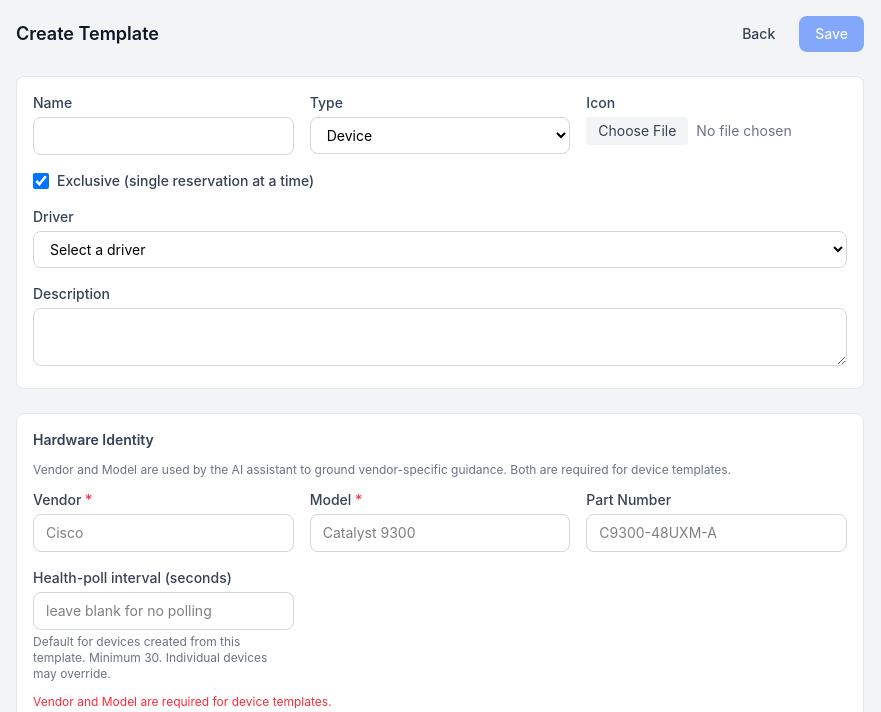
Test: TemplateEditorPage (create flow) › switching from dynamic back to device clears the driver and hypervisor selection
The width and height of the screenshot is (881, 712).
Select "Dynamic (Hypervisor)" in the dropdown labelled "Type" at [440, 136], box [310,117,570,154]
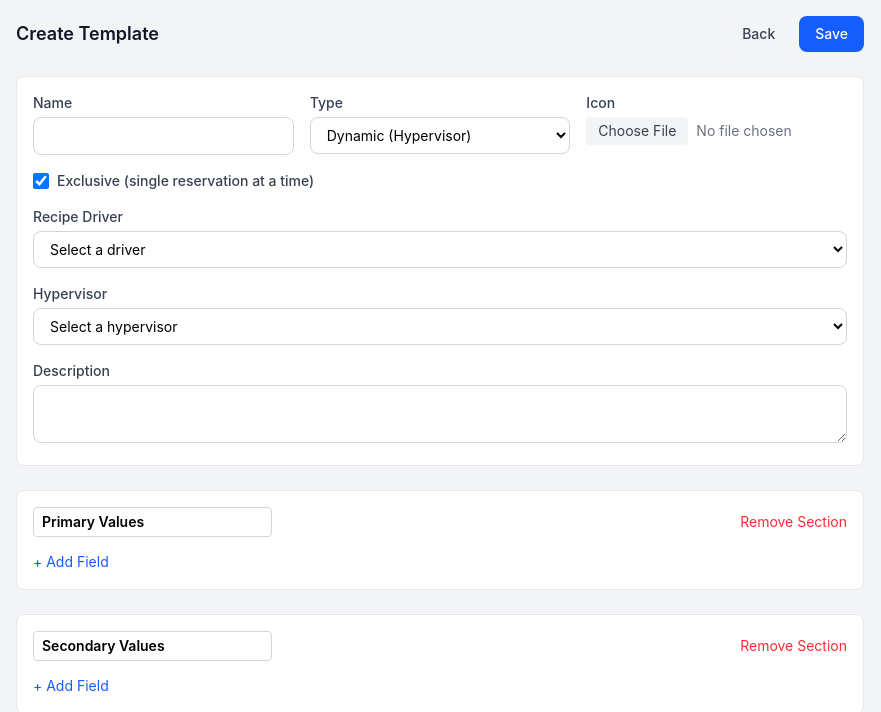
Select "Proxmox Recipe (Hypervisor)" in the dropdown labelled "Recipe Driver" at [440, 250], box [33,231,847,268]
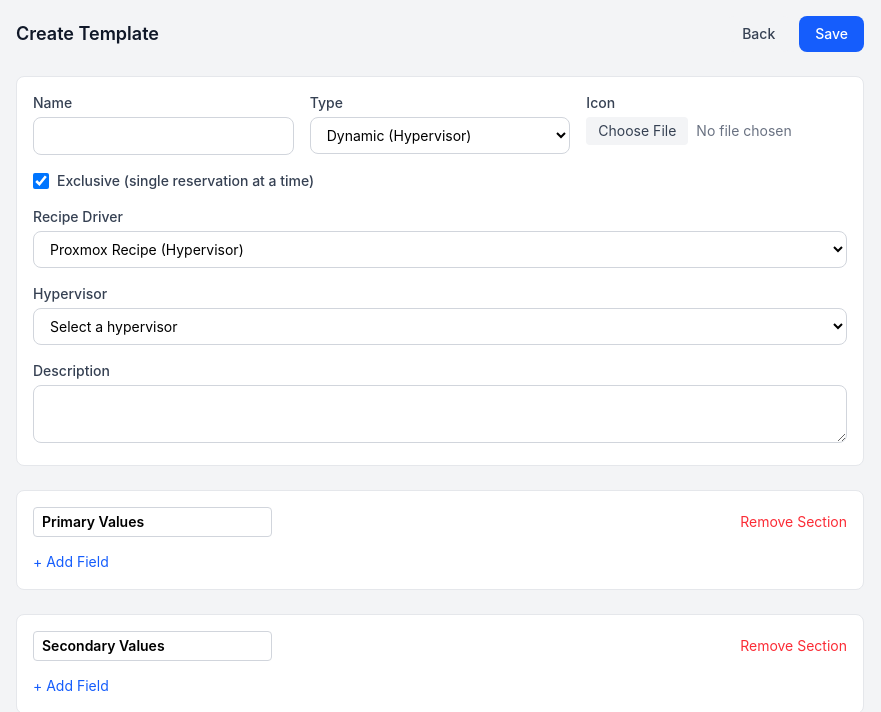
Select "Proxmox Lab (proxmox)" in the dropdown labelled "Hypervisor" at [440, 326], box [33,308,847,345]
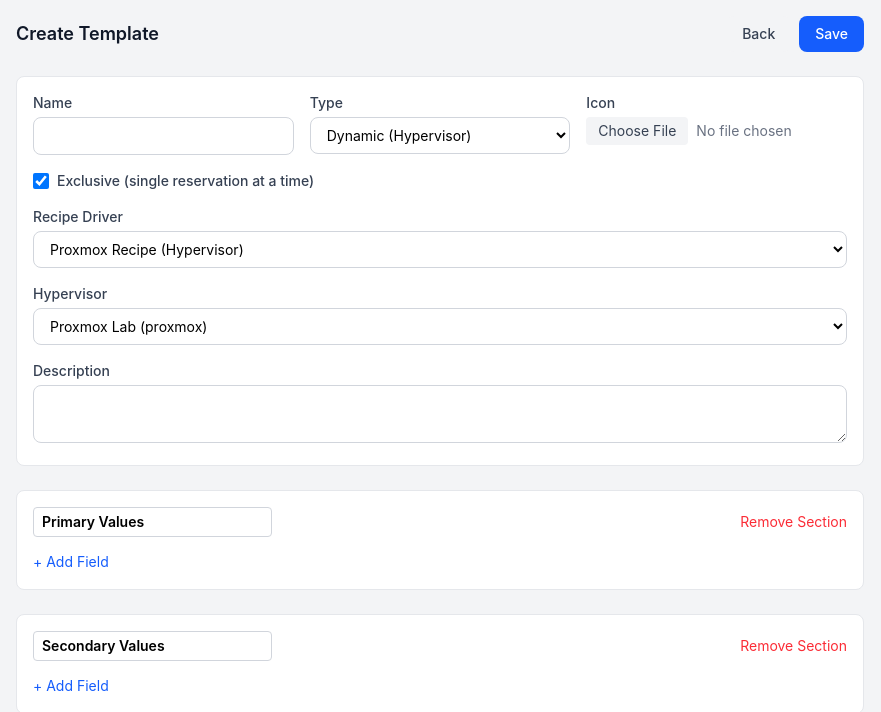
Select "Device" in the dropdown labelled "Type" at [440, 136], box [310,117,570,154]
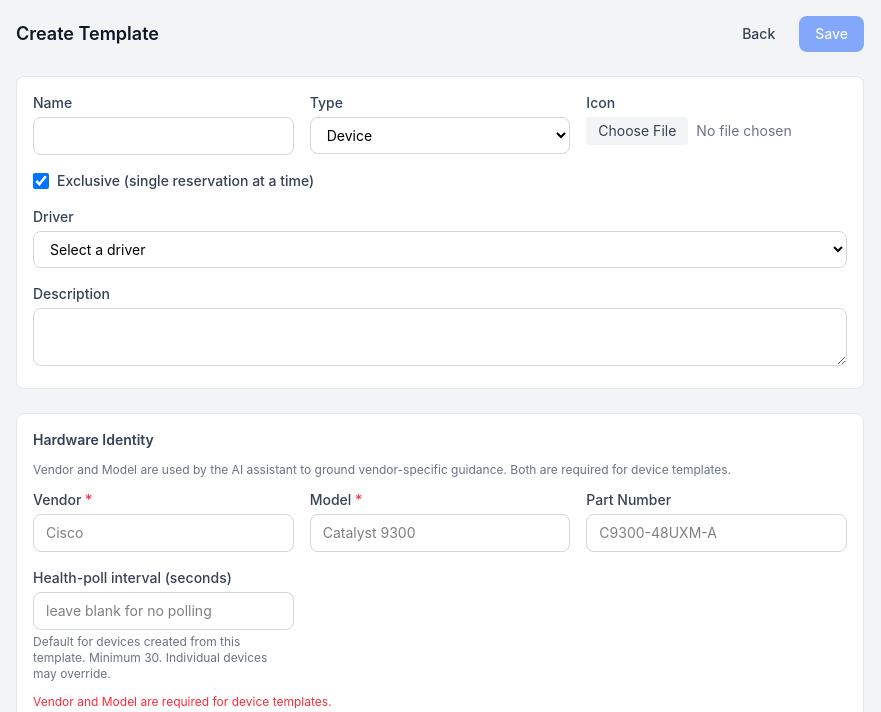
Check: the label labelled "Hypervisor" is gone
